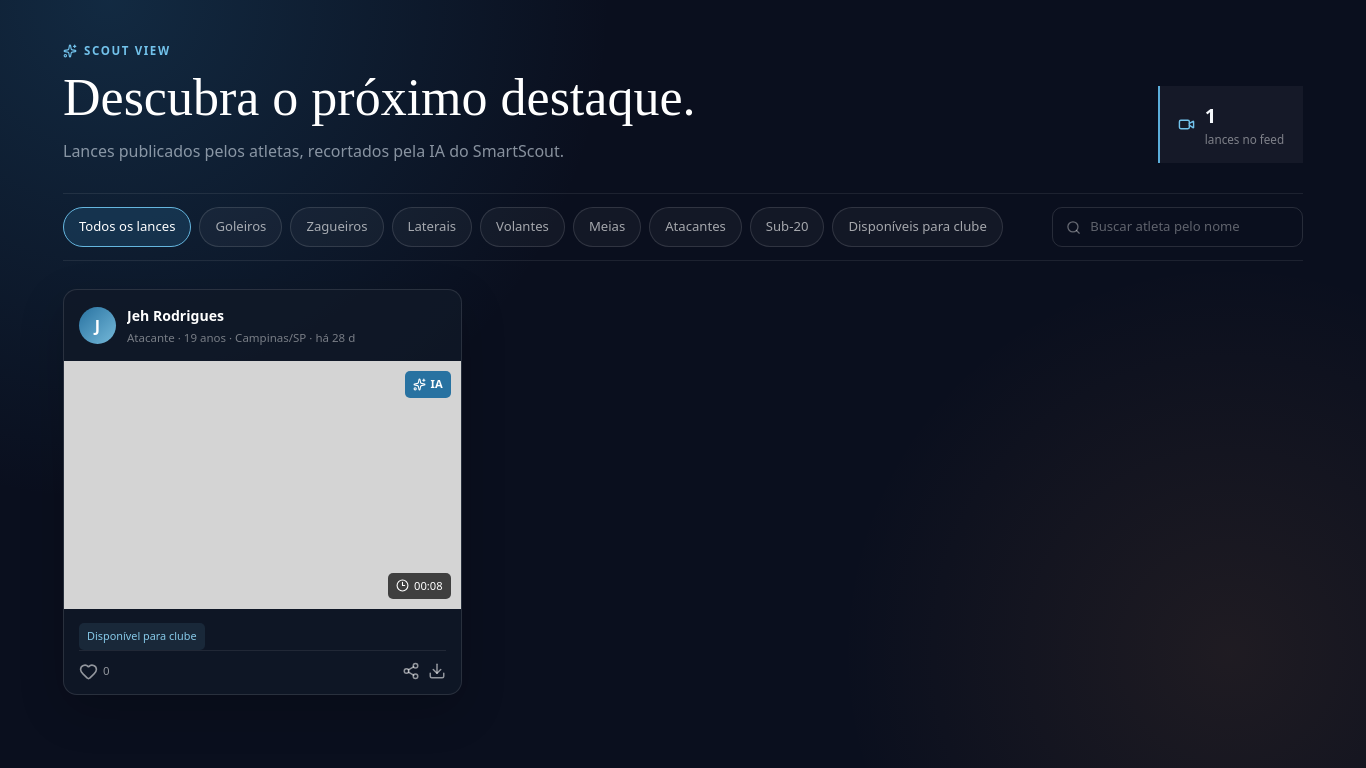
Test case: Feed › curtir atualiza o contador e chama a API
Click the button named "Curtir clipe".
click(94, 671)  # box [79,662,110,681]
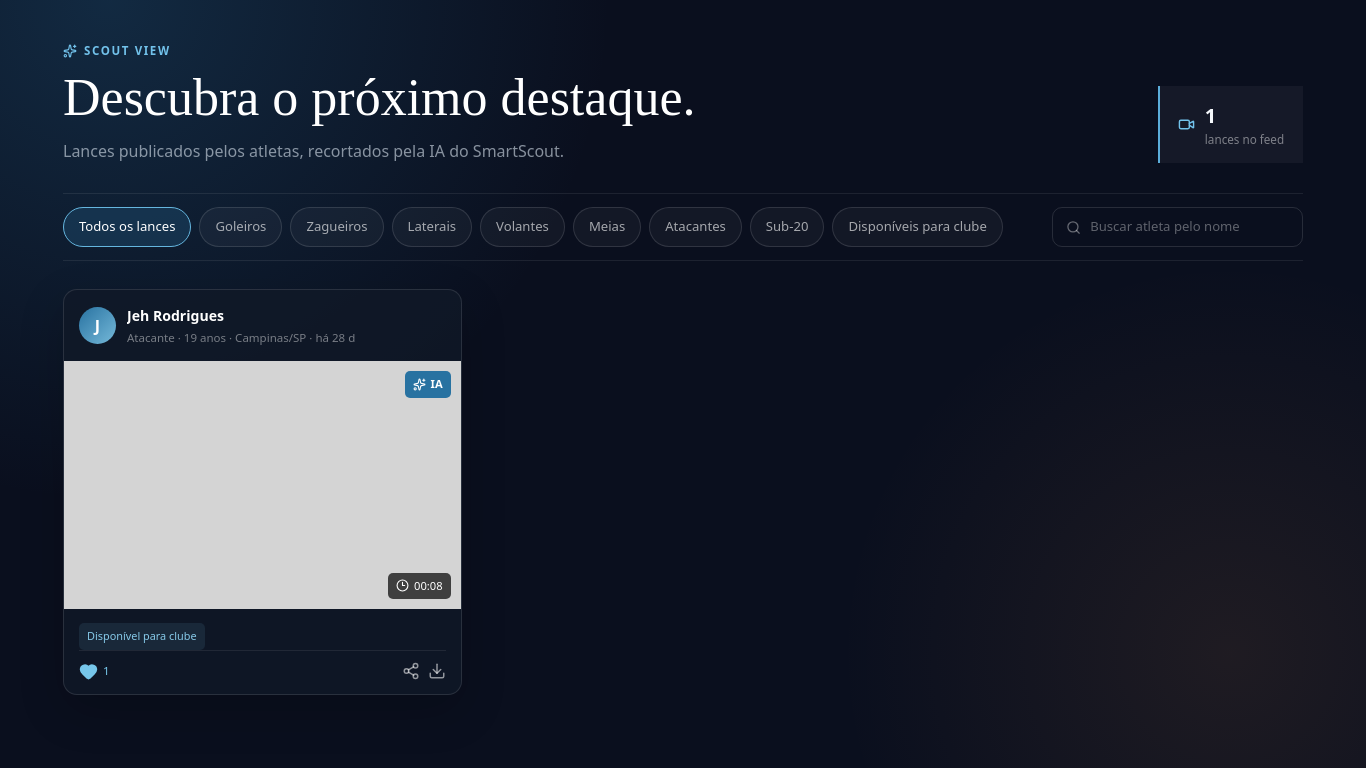
Check: the button named "Descurtir clipe" reads "1", box [79,662,110,681]
